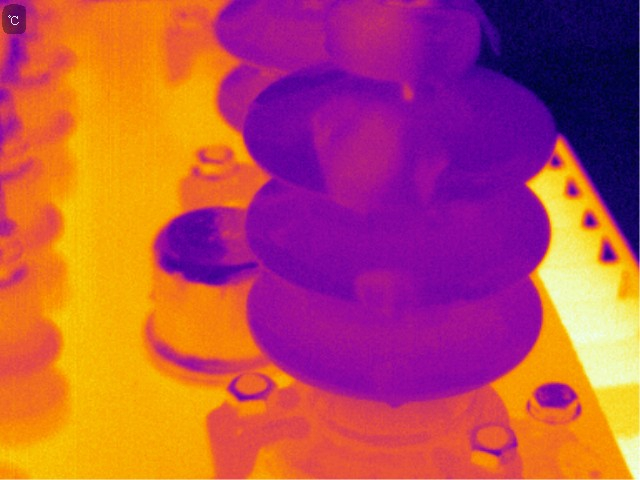Oil: (319, 100, 392, 202), (335, 1, 412, 69), (356, 271, 412, 309), (413, 153, 443, 199), (396, 80, 416, 102)
